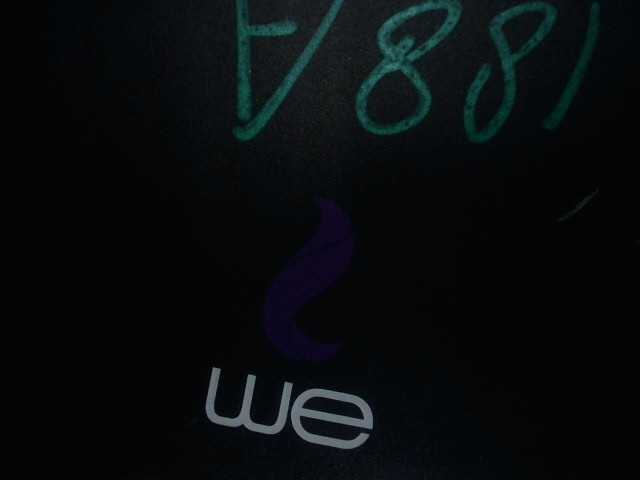AT_We: (200, 186, 391, 454)
